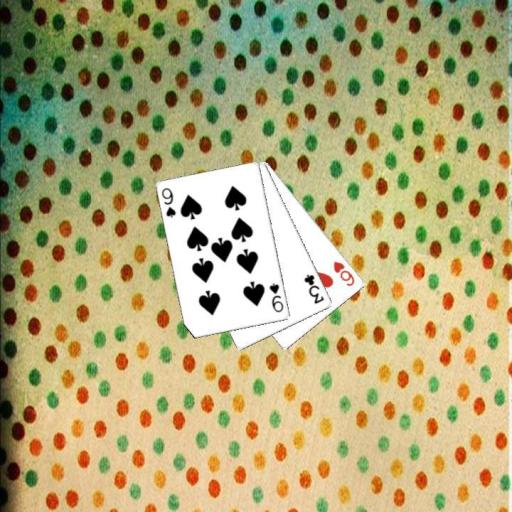3C: (301, 271, 326, 306)
6H: (331, 258, 356, 288)
9S: (159, 185, 178, 219), (267, 280, 285, 314)
